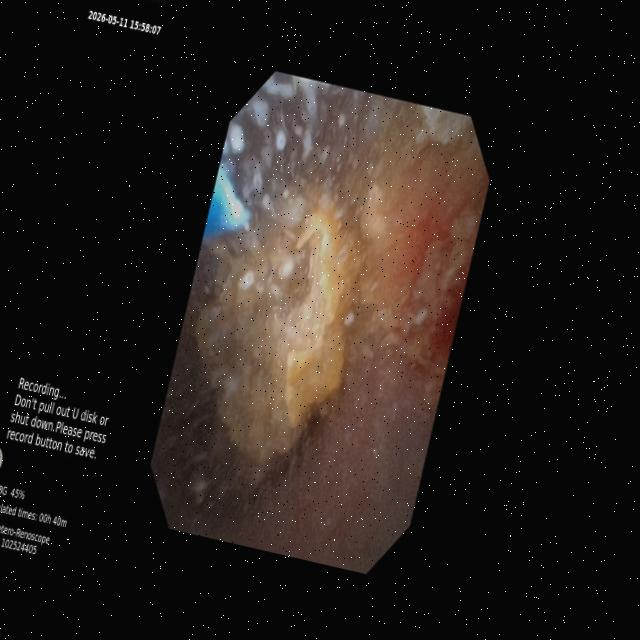laser-fibre: (207, 223, 273, 280)
stone-new: (195, 189, 363, 462)
